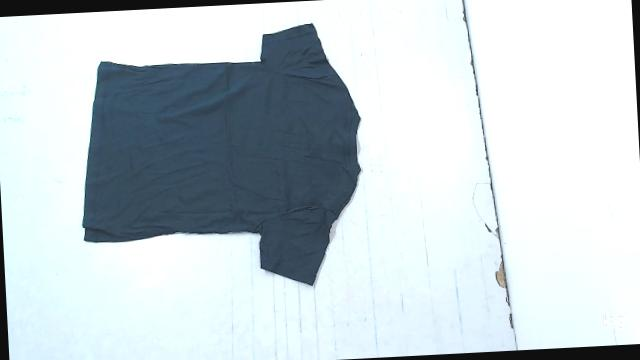new-garment: (82, 23, 359, 284)
